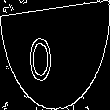O_N: (42, 27, 68, 83)
